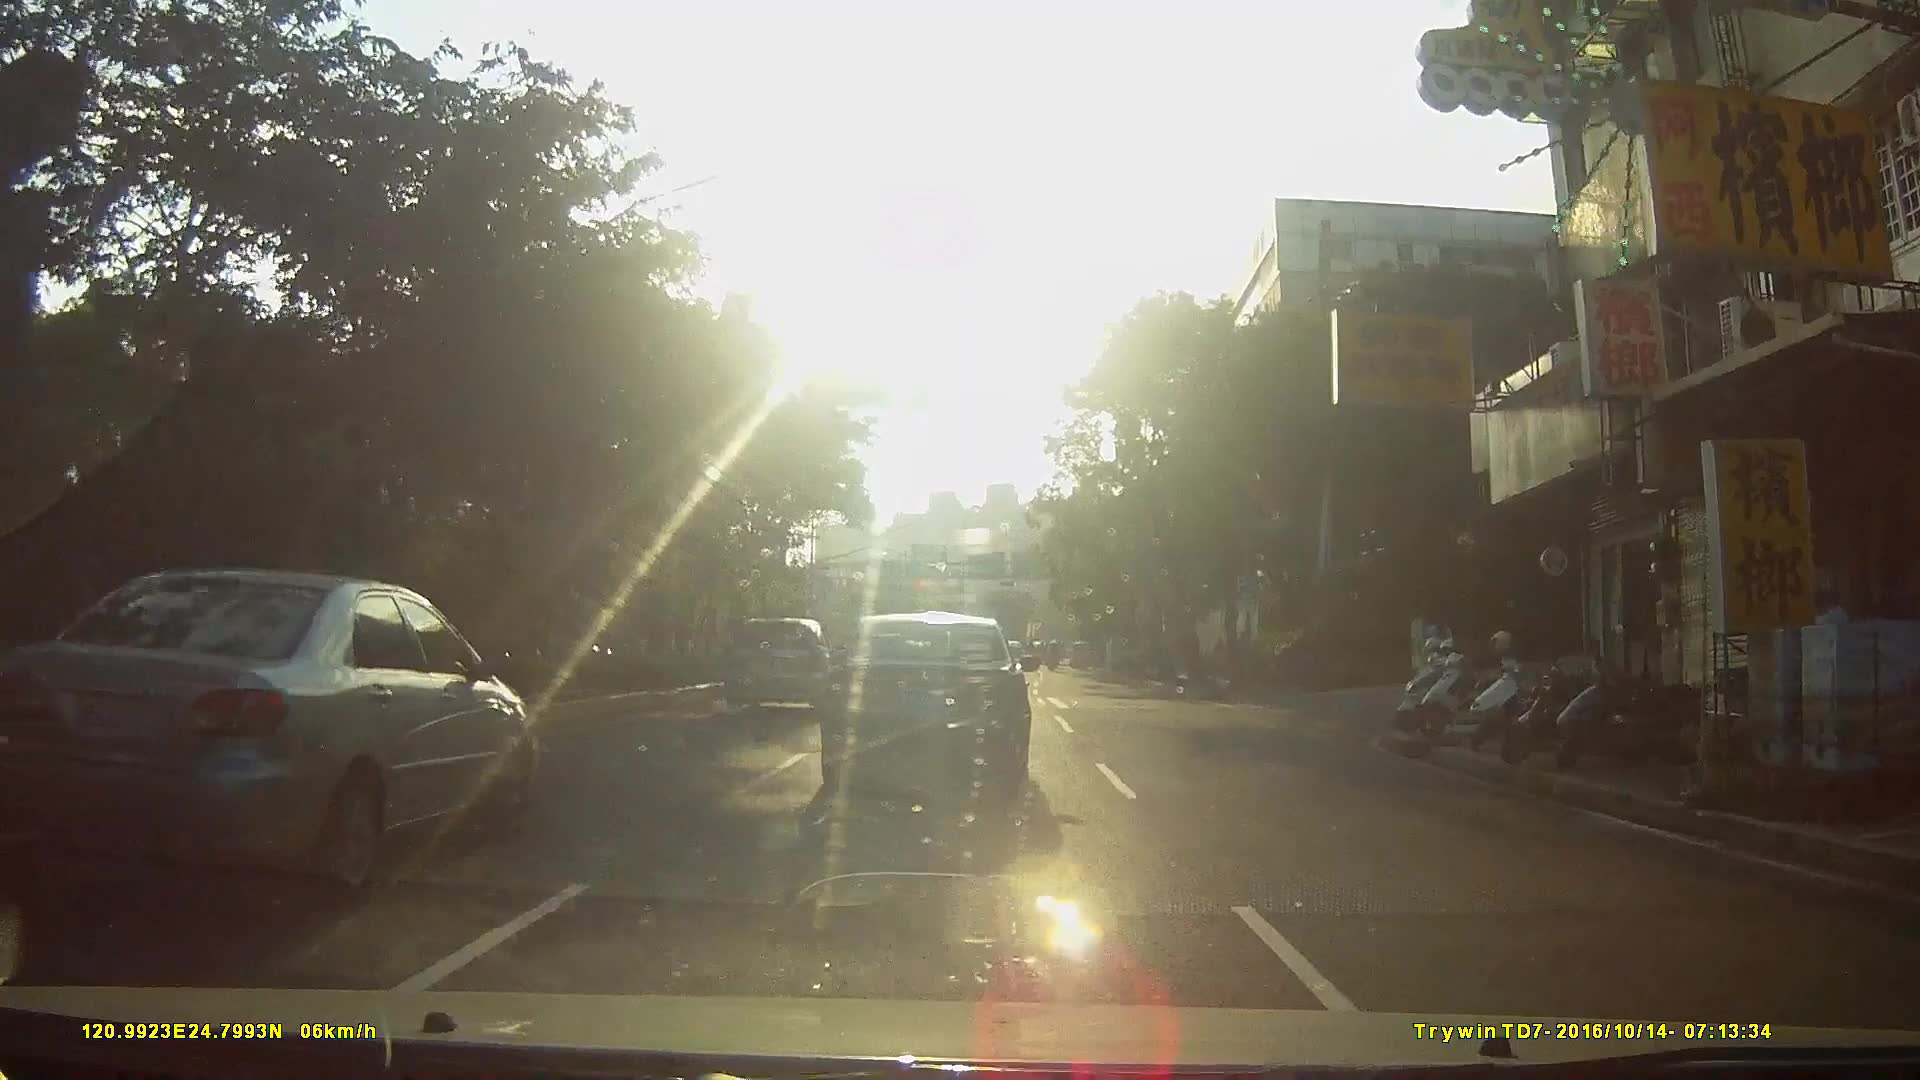pedestrian: (1793, 587, 1863, 746)
vehicle: (4, 567, 554, 896), (826, 609, 1052, 806), (727, 614, 841, 709), (1067, 637, 1101, 666)
